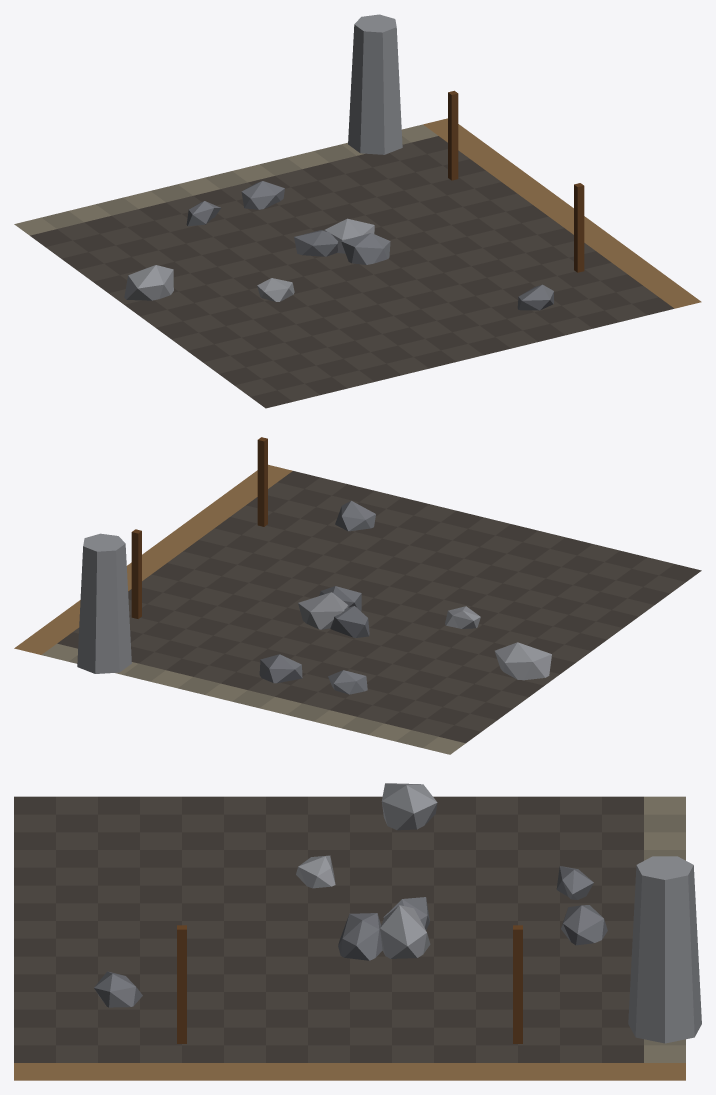
File: chunk_5_18.glb
The picture shows the model from 3 angles, top to bottom: view 1: azimuth 30°, elevation 25°; view 2: azimuth 150°, elevation 25°; view 3: azimuth 270°, elevation 25°; orthographic projection. The views are drawn at different scales.
Parts seen in each view (by area): view 1: chunk_5_18; view 2: chunk_5_18; view 3: chunk_5_18.
Boxes of the visible parts, left/top/right/bottom form: chunk_5_18: left=14, top=14, right=701, bottom=408; chunk_5_18: left=14, top=437, right=701, bottom=754; chunk_5_18: left=14, top=783, right=701, bottom=1080.
Bounding box in the file's own units: 16 × 4.8 × 16.38.
